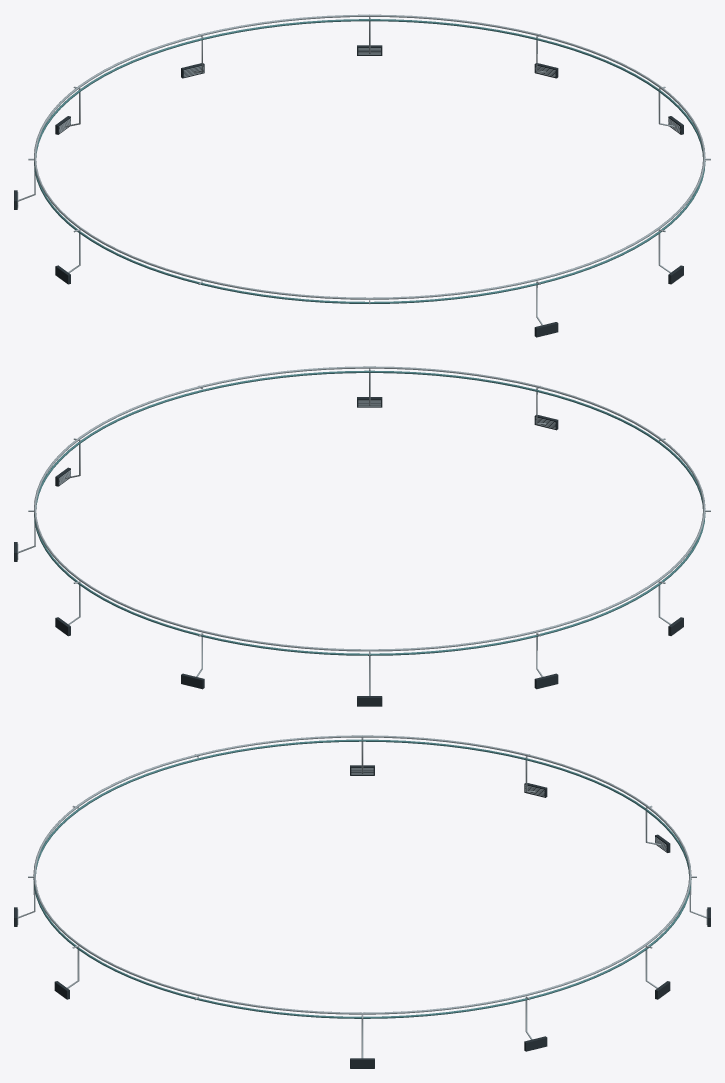
Rendered from RD_S01_Services.fbx.
3 renders of one model, top to bottom at view 1: azimuth 30°, elevation 25°; view 2: azimuth 150°, elevation 25°; view 3: azimuth 270°, elevation 25°, orthographic. The views are drawn at different scales.
Parts seen in each view (by area): view 1: RD_S01_Services; view 2: RD_S01_Services; view 3: RD_S01_Services.
Part boxes in pixels (left/top/right/bottom): RD_S01_Services: left=14, top=14, right=710, bottom=337; RD_S01_Services: left=14, top=366, right=710, bottom=706; RD_S01_Services: left=14, top=735, right=710, bottom=1068.
Bounding box in the file's own units: 1928 × 146 × 1928.
